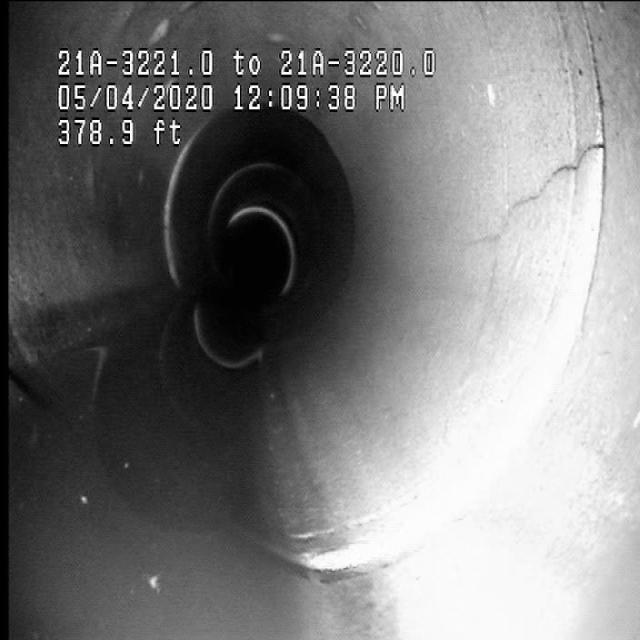Crack: (482, 110, 594, 258)
